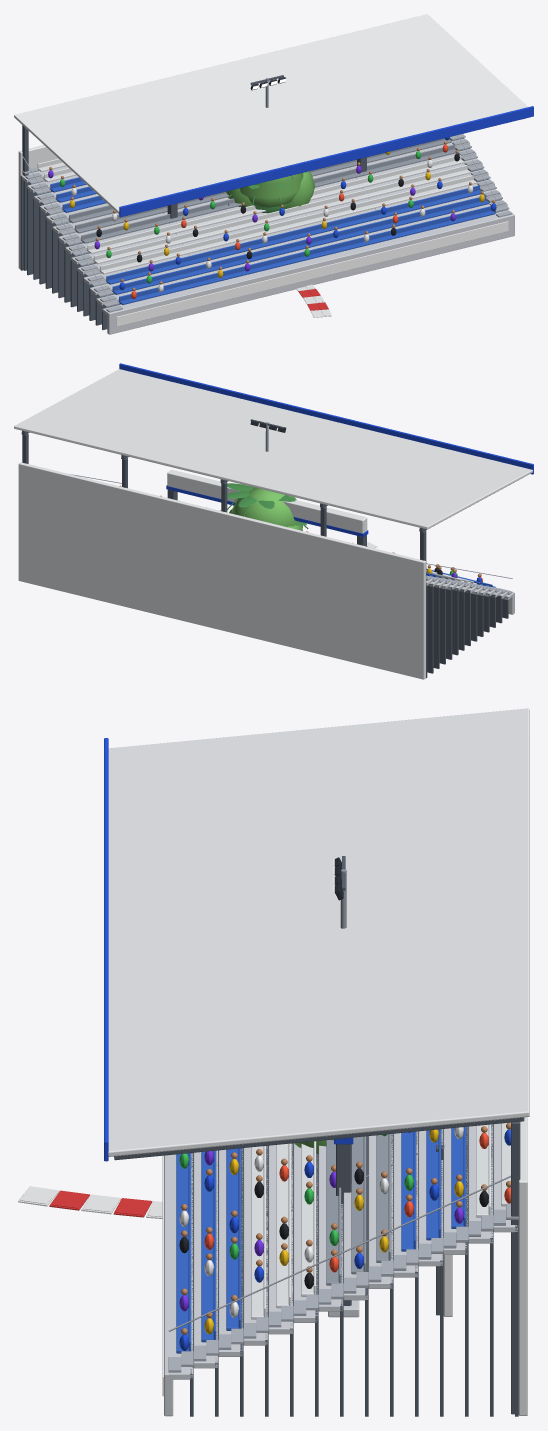
Rendered from track.glb.
3 views of the same model, one above another, from view 1: azimuth 30°, elevation 25°; view 2: azimuth 150°, elevation 25°; view 3: azimuth 270°, elevation 25° (orthographic). The views are drawn at different scales.
Visible parts, largest first — view 1: grandstand_covered_body, tree_park_a_body, kerb_curve_body; view 2: grandstand_covered_body, start_gantry_frame, tree_park_a_body, palm_a_body; view 3: grandstand_covered_body, kerb_curve_body, start_gantry_frame, grandstand_open_body.
Part boxes in pixels (x1,y1,x2,y2): grandstand_covered_body: [14, 14, 533, 334]; tree_park_a_body: [226, 171, 315, 208]; kerb_curve_body: [296, 284, 331, 317]; grandstand_covered_body: [14, 363, 533, 679]; start_gantry_frame: [166, 470, 368, 546]; tree_park_a_body: [229, 487, 302, 530]; palm_a_body: [227, 483, 295, 516]; grandstand_covered_body: [104, 708, 529, 1416]; kerb_curve_body: [18, 1186, 162, 1218]; start_gantry_frame: [328, 1137, 359, 1317]; grandstand_open_body: [266, 1139, 452, 1316].
Size of the model in its own units: 30.6 by 12.33 by 16.4.
